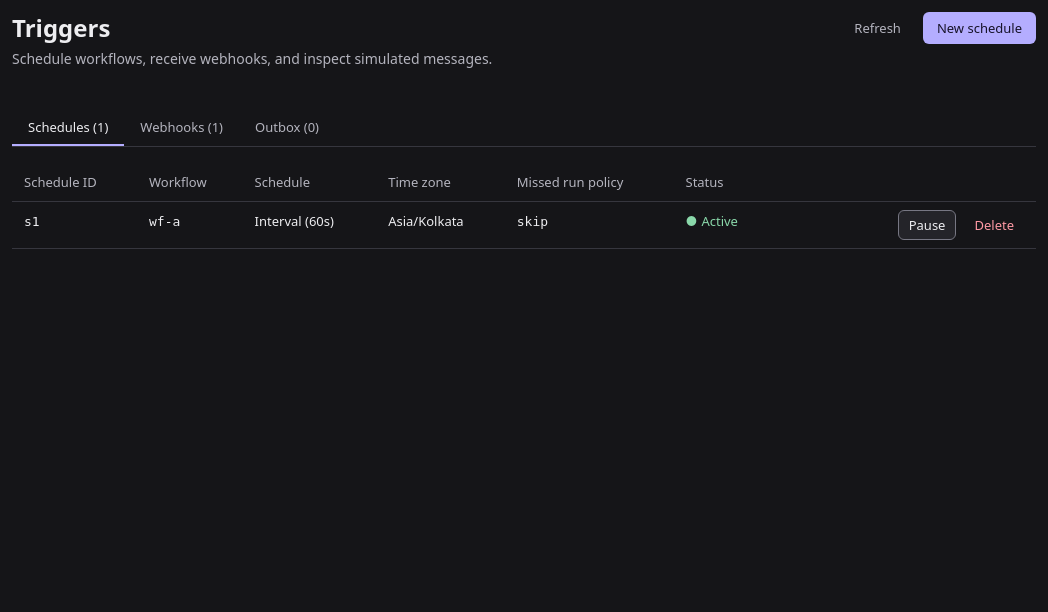
Test case: Triggers delivery tokens (remote token mode) › shows the service error when rotation is refused
Click the tab "Webhooks (1)".
click(182, 128)  # box x1=124 y1=110 x2=239 y2=146
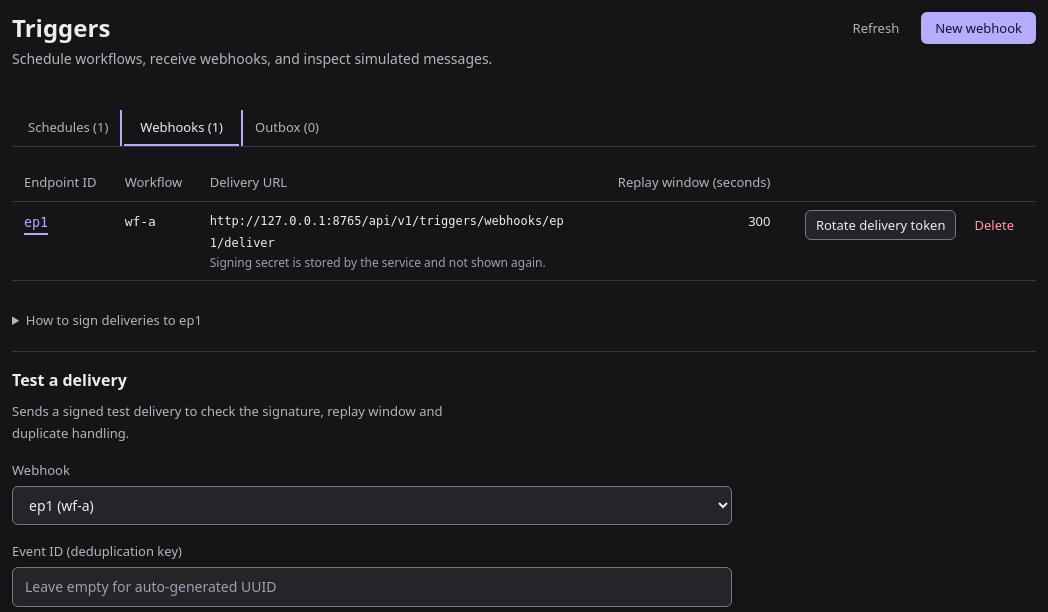
Click the button with test id "btn-rotate-delivery-token-ep1".
click(881, 225)  # box x1=805 y1=210 x2=956 y2=240
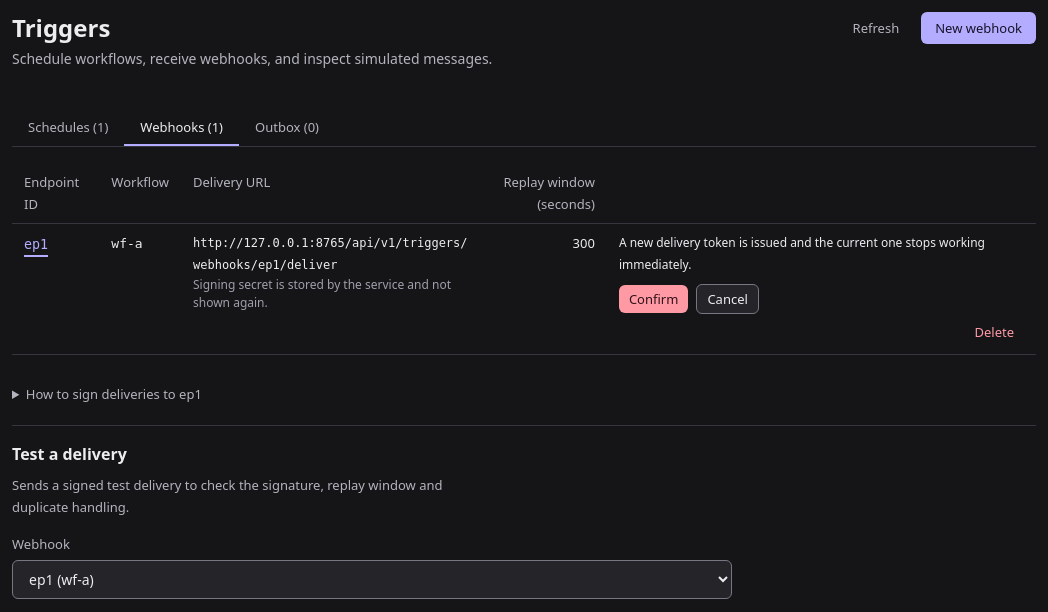
Click the button with test id "btn-rotate-delivery-token-ep1-confirm".
click(654, 299)  # box x1=619 y1=285 x2=688 y2=313
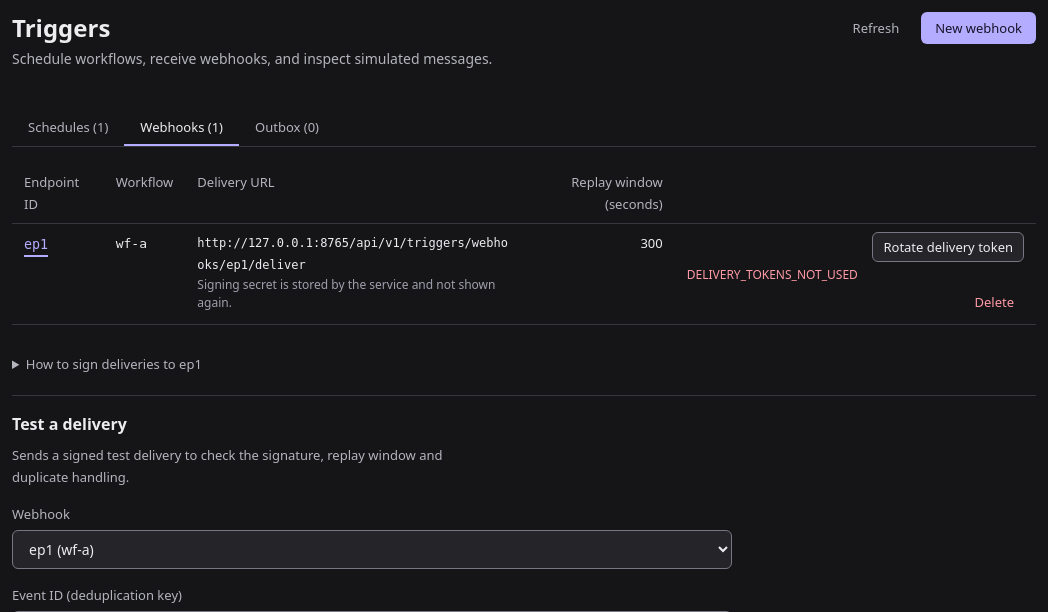
expect the message with test id "rotate-error-ep1" reads "DELIVERY_TOKENS_NOT_USED": met, box x1=687 y1=266 x2=858 y2=283
expect the button with test id "btn-rotate-delivery-token-ep1-confirm" is gone: met
